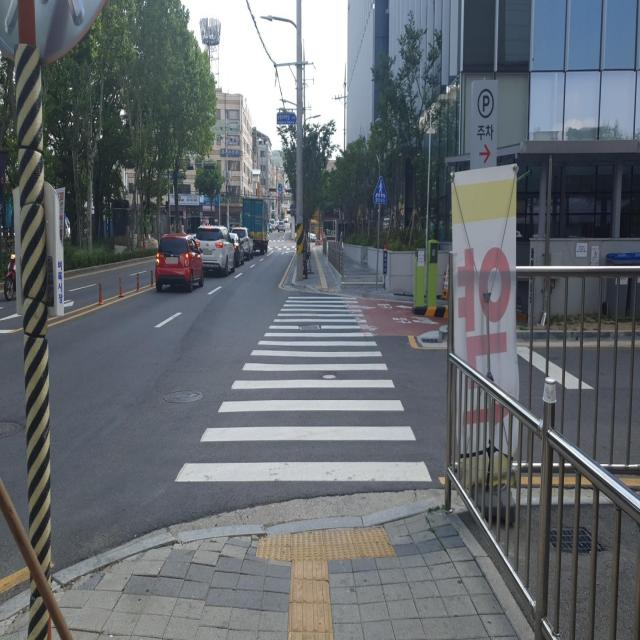횡단보도: (172, 292, 435, 486)
